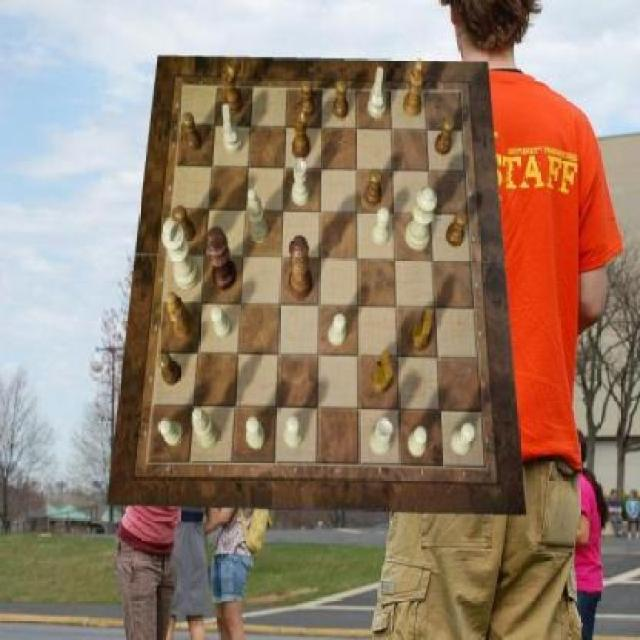bishop: (168, 292, 195, 338), (403, 60, 424, 118)
black-bishop: (206, 226, 236, 292)
black-king: (409, 308, 434, 350), (371, 351, 393, 393)
black-knight: (446, 212, 469, 248), (158, 351, 182, 385), (183, 112, 203, 152), (174, 206, 196, 242), (436, 117, 456, 155), (366, 169, 383, 207), (298, 80, 314, 118), (334, 80, 349, 120)
black-pawn: (289, 235, 314, 301)
black-queen: (222, 66, 242, 116), (292, 111, 312, 160)
black-rook: (246, 189, 269, 243), (192, 408, 220, 448)
white-bishop: (162, 217, 199, 291)
white-king: (223, 103, 243, 154), (368, 68, 385, 119)
white-knight: (452, 422, 477, 456), (210, 306, 232, 340), (372, 206, 390, 244), (160, 419, 185, 446), (247, 417, 266, 451), (408, 426, 428, 457), (285, 416, 302, 450), (329, 314, 347, 346)
white-pawn: (404, 186, 438, 250)
white-queen: (292, 159, 312, 206), (371, 417, 394, 455)
